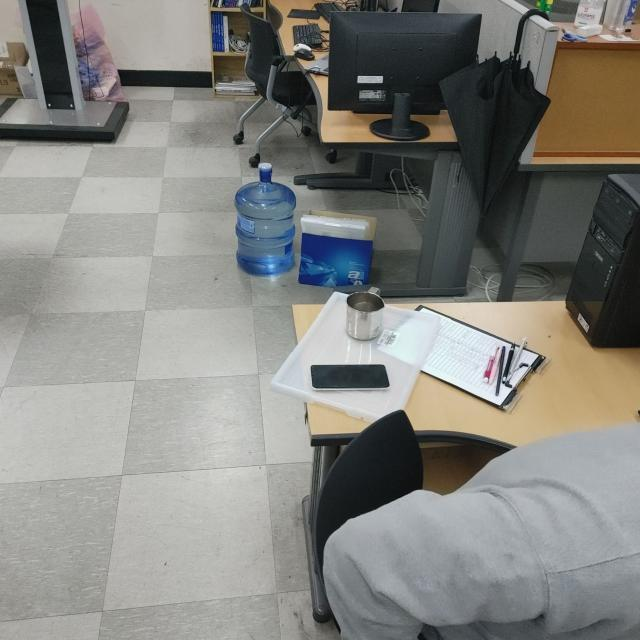cup: (343, 284, 386, 342)
phone: (310, 362, 392, 393)
